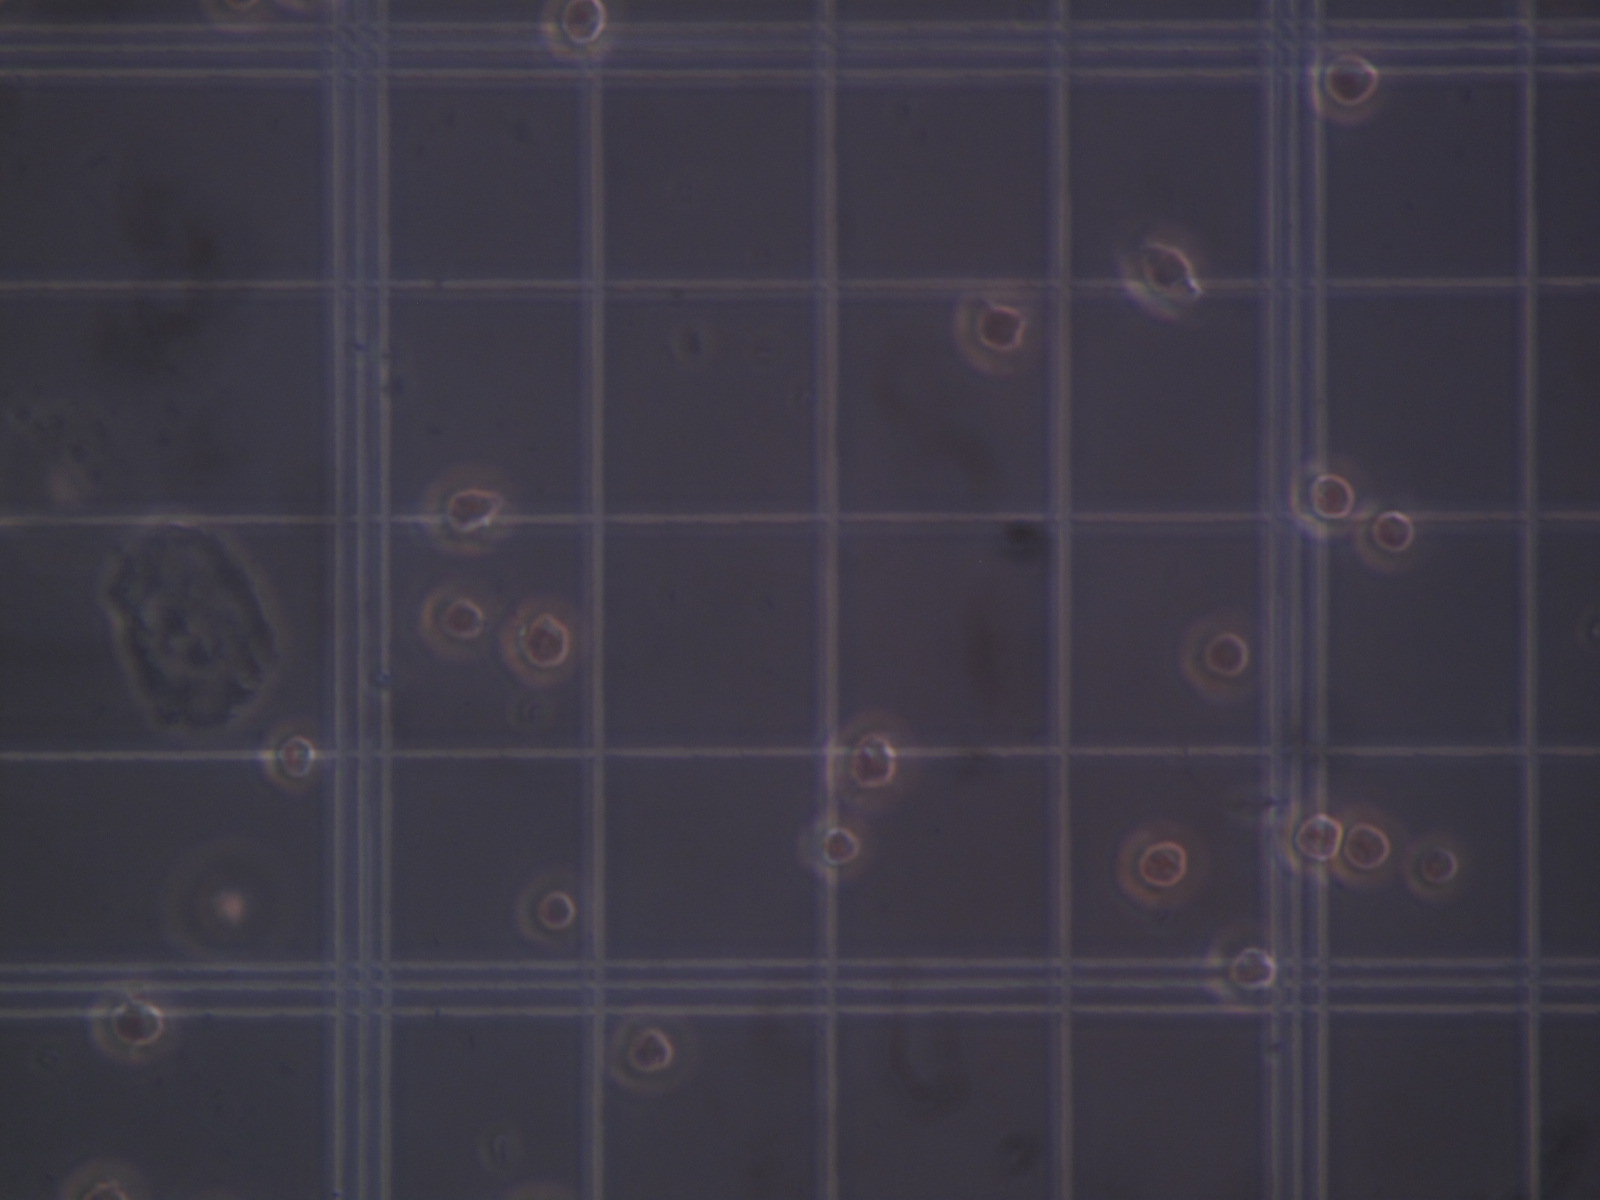hemo: (418, 465, 517, 555), (830, 710, 917, 809), (1116, 819, 1204, 908), (606, 1007, 695, 1094), (1179, 611, 1265, 701), (501, 594, 585, 686), (1203, 921, 1280, 1013), (1117, 232, 1199, 316), (952, 294, 1036, 376), (88, 988, 176, 1064), (1289, 455, 1362, 538), (1309, 49, 1385, 124), (515, 870, 588, 947), (1334, 805, 1403, 886), (420, 584, 491, 661), (1279, 797, 1347, 876), (1354, 500, 1421, 574), (797, 814, 871, 881), (539, 1, 614, 62), (258, 720, 319, 793), (1405, 834, 1466, 901), (60, 1158, 145, 1200)
